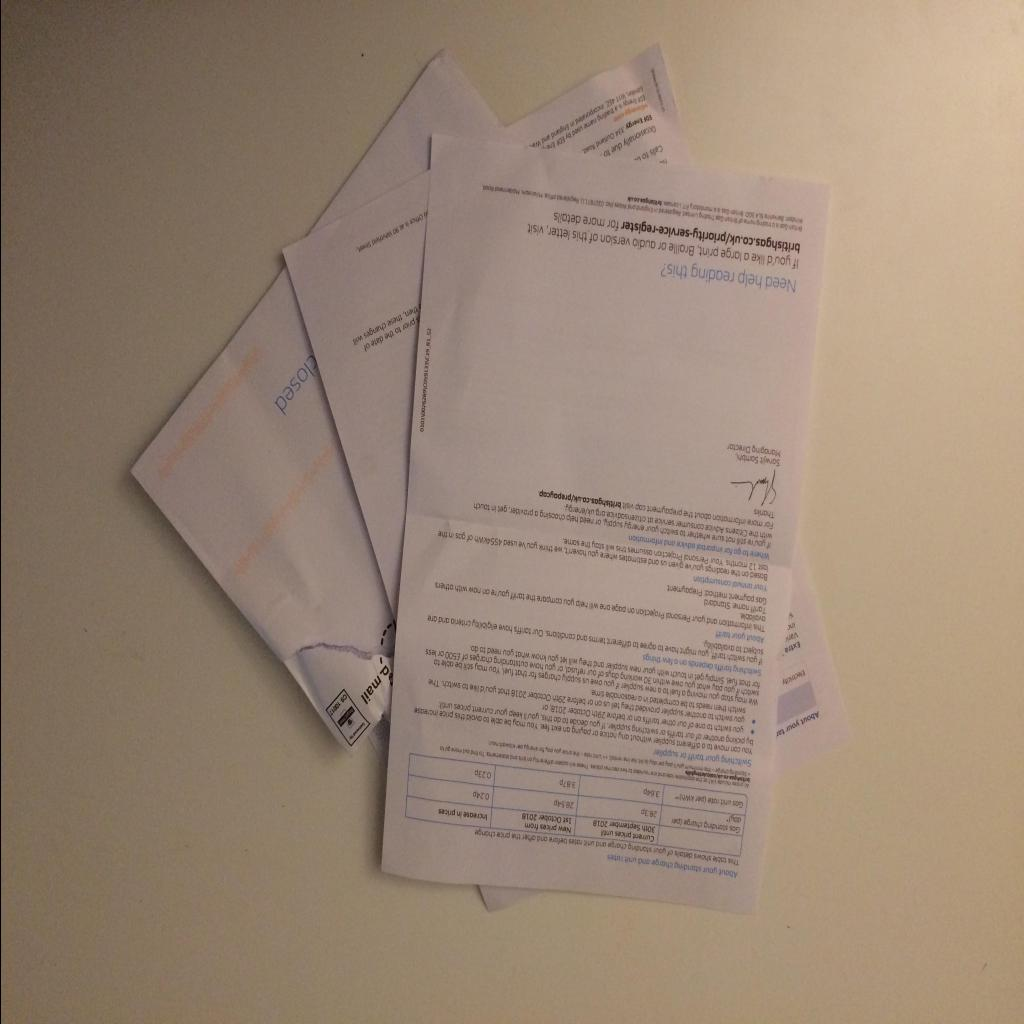Normal paper: (280, 44, 852, 912), (380, 134, 830, 916), (130, 48, 504, 758)
